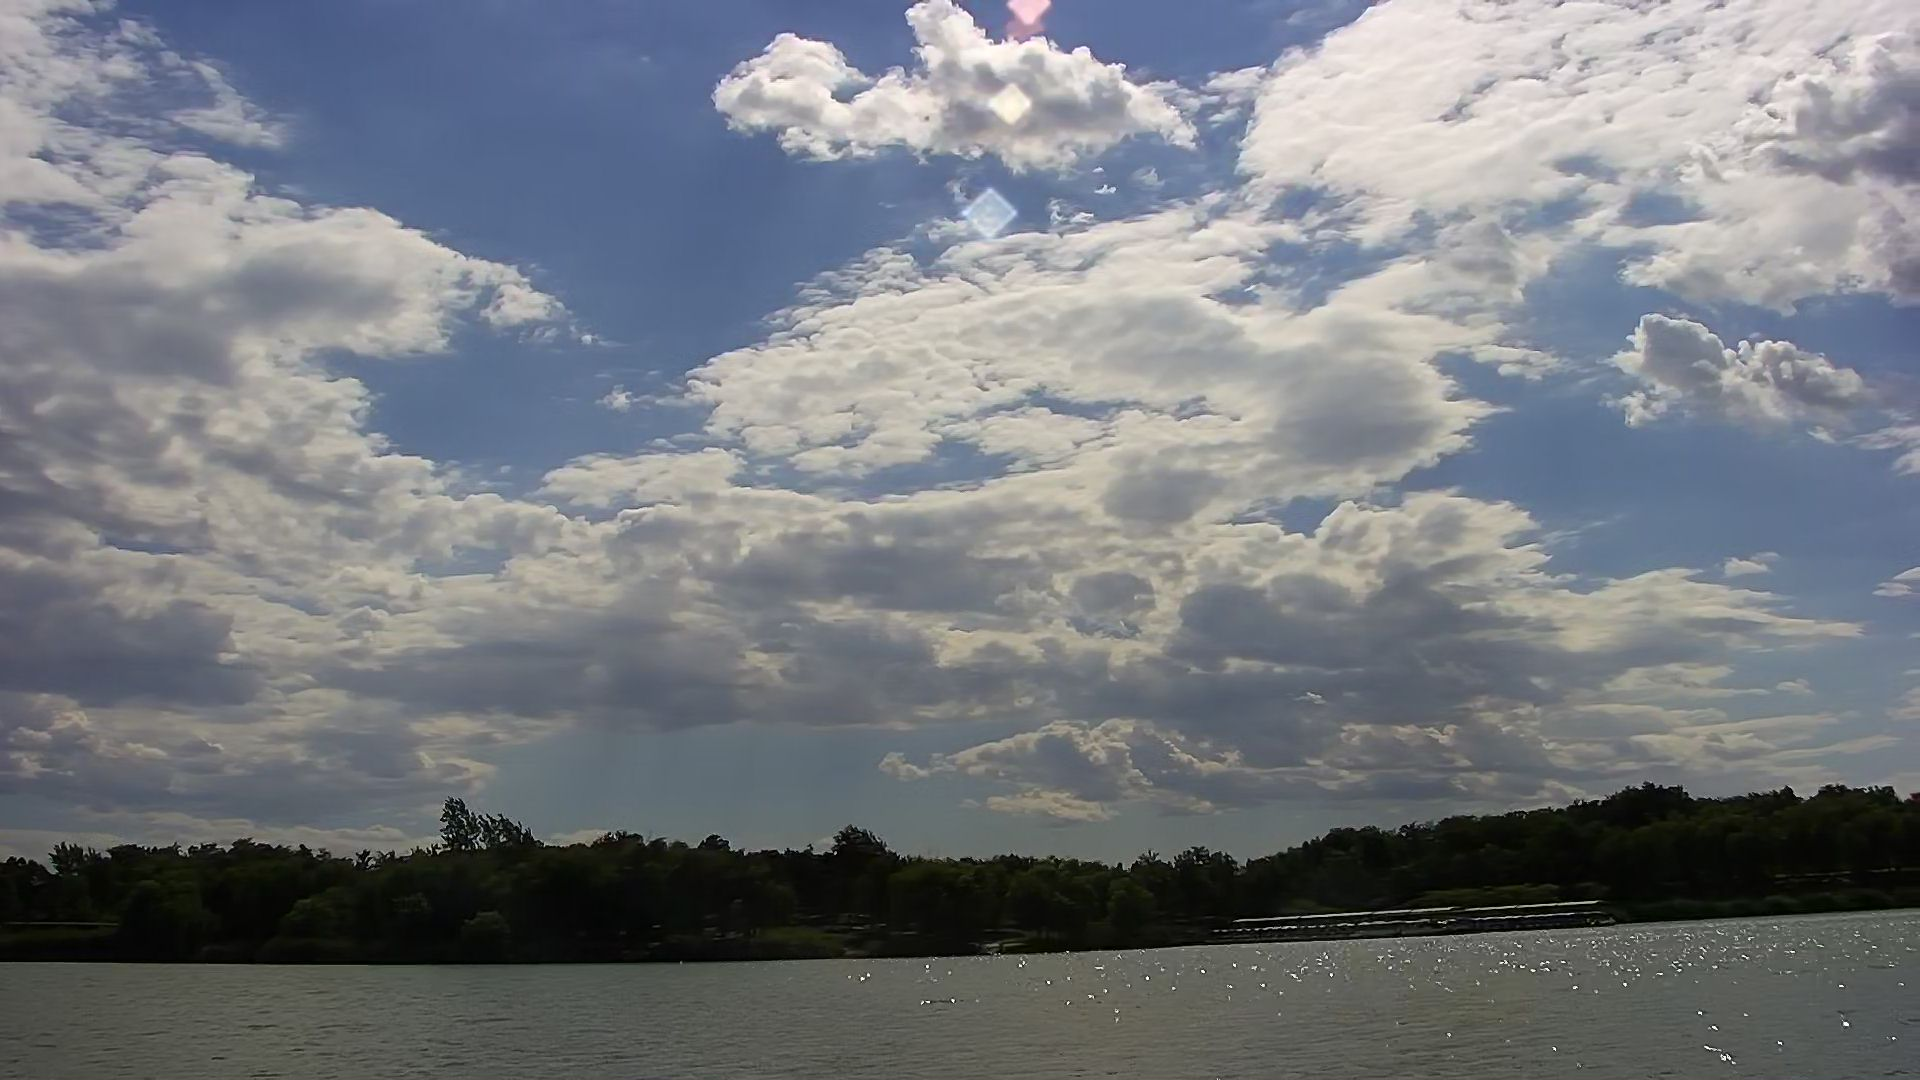harbor: (1196, 897, 1633, 945)
